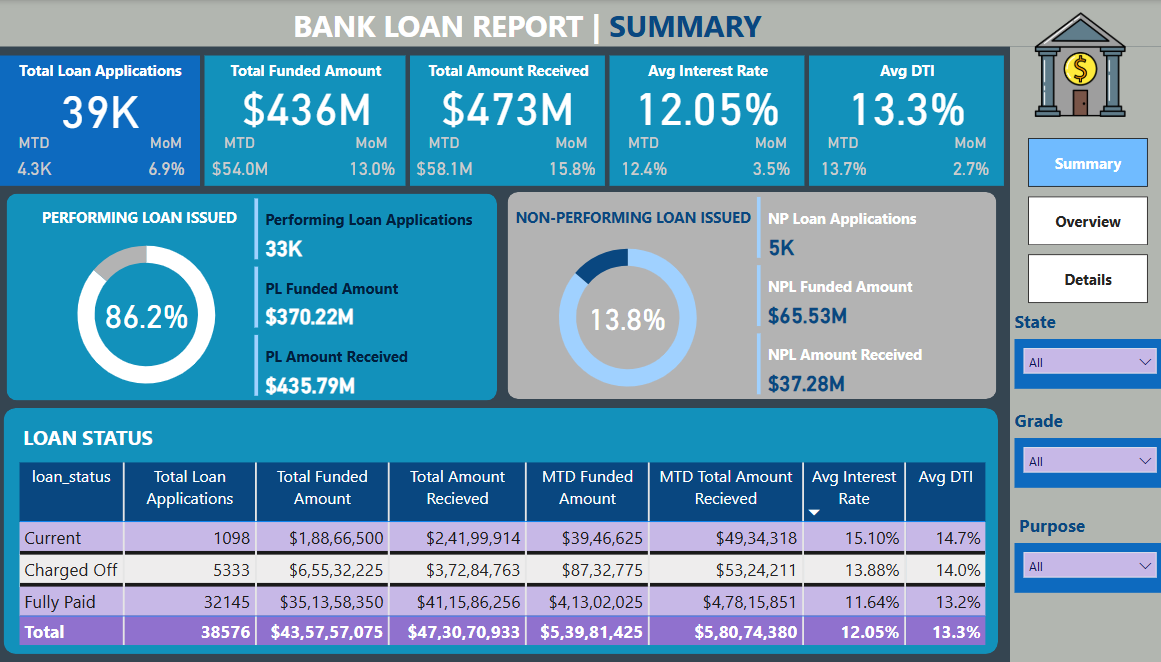

The page's visual inventory and layout, read from the dashboard file:
{"tool":"powerbi","page":{"name":"Summary","canvas":[1280,720],"ordinal":0},"visuals":[{"type":"shape","box":[0,0,1280.1,50.4],"z":0},{"type":"shape","box":[6.3,60.2,218,141.5],"z":0,"group":"g1"},{"type":"shape","box":[229.1,60.2,218,141.5],"z":0,"group":"g2"},{"type":"shape","box":[451.7,60.2,211.5,141.5],"z":0,"group":"g3"},{"type":"shape","box":[669.1,60.2,211.5,141.5],"z":0,"group":"g4"},{"type":"shape","box":[884.7,60.2,211.5,141.5],"z":0,"group":"g5"},{"type":"shape","box":[1102.8,50.4,177.3,670.1],"z":1000},{"type":"card","fields":{"Values":["financial_loan.Total Funded Amount"]},"box":[243.2,77.8,191.9,68.3],"z":1000,"group":"g2"},{"type":"card","fields":{"Values":["financial_loan.Total Amount Recieved"]},"box":[464.6,77.8,185.4,68.3],"z":1000,"group":"g3"},{"type":"card","fields":{"Values":["financial_loan.Avg Interest Rate"]},"box":[682,77.8,185.4,68.3],"z":1000,"group":"g4"},{"type":"card","fields":{"Values":["financial_loan.Avg DTI"]},"box":[897.6,77.8,185.4,68.3],"z":1000,"group":"g5"},{"type":"card","fields":{"Values":["financial_loan.Total Loan Applications"]},"box":[53.7,83,124.5,63.4],"z":1000,"group":"g1"},{"type":"textbox","box":[15.2,60.2,203.1,43.9],"z":2000,"group":"g1"},{"type":"textbox","box":[238,60.2,203.1,43.9],"z":2000,"group":"g2"},{"type":"textbox","box":[460.3,60.2,197.1,43.9],"z":2000,"group":"g3"},{"type":"textbox","box":[677.7,60.2,197.1,43.9],"z":2000,"group":"g4"},{"type":"textbox","box":[893.3,60.2,197.1,43.9],"z":2000,"group":"g5"},{"type":"shape","box":[14.6,209.8,531.9,224.5],"z":2000},{"type":"card","title":"MTD","fields":{"Values":["financial_loan.MTD Loan Applications"]},"box":[6.3,144.8,75.6,56.9],"z":3000,"group":"g1"},{"type":"card","title":"MTD","fields":{"Values":["financial_loan.MTD Funded Amount"]},"box":[229.1,144.8,75.6,56.9],"z":3000,"group":"g2"},{"type":"card","title":"MTD","fields":{"Values":["financial_loan.MTD Total Amount Recieved"]},"box":[451.7,144.8,73.4,56.9],"z":3000,"group":"g3"},{"type":"card","title":"MTD","fields":{"Values":["financial_loan.MTD Avg Interest Rate"]},"box":[669.1,144.8,73.4,56.9],"z":3000,"group":"g4"},{"type":"card","title":"MTD","fields":{"Values":["financial_loan.MTD Avg DTI"]},"box":[884.7,144.8,73.4,56.9],"z":3000,"group":"g5"},{"type":"textbox","box":[1107.7,551.4,152.9,37.4],"z":3000},{"type":"card","title":"MoM","fields":{"Values":["financial_loan.MOM Loan Applications"]},"box":[148.6,144.8,75.6,56.9],"z":4000,"group":"g1"},{"type":"card","title":"MoM","fields":{"Values":["financial_loan.MoM Funded Amount"]},"box":[371.4,144.8,75.6,56.9],"z":4000,"group":"g2"},{"type":"card","title":"MoM","fields":{"Values":["financial_loan.MOM Total Amount Recieved"]},"box":[589.8,144.8,73.4,56.9],"z":4000,"group":"g3"},{"type":"card","title":"MoM","fields":{"Values":["financial_loan.MoM Avg Interest Rate"]},"box":[807.2,144.8,73.4,56.9],"z":4000,"group":"g4"},{"type":"card","title":"MoM","fields":{"Values":["financial_loan.MoM Avg DTI"]},"box":[1022.8,144.8,73.4,56.9],"z":4000,"group":"g5"},{"type":"card","fields":{"Values":["financial_loan.Performing Loan %"]},"box":[112.2,312.3,107.4,55.3],"z":4000},{"type":"textbox","box":[219.6,0,718.9,60.2],"z":5000},{"type":"group","id":"g1","title":"Group 1","box":[6.3,60.2,218,141.5],"z":6000},{"type":"shape","box":[557.9,208.2,530.3,224.5],"z":7000},{"type":"card","fields":{"Values":["financial_loan.Non-Performing Loan %"]},"box":[631.1,320.4,112.2,47.2],"z":8000},{"type":"textbox","box":[21.1,219.6,274.9,42.3],"z":9000},{"type":"group","id":"g2","title":"Group 1","box":[229.1,60.2,218,141.5],"z":10000},{"type":"group","id":"g3","title":"Group 1","box":[451.7,60.2,211.5,141.5],"z":11000},{"type":"group","id":"g4","title":"Group 1","box":[669.1,60.2,211.5,141.5],"z":12000},{"type":"group","id":"g5","title":"Group 1","box":[884.7,60.2,211.5,141.5],"z":13000},{"type":"donutChart","fields":{"Category":["financial_loan.Performing Vs Non-Performing Loans"],"Y":["financial_loan.Total Loan Applications"]},"box":[21.1,242.4,289.5,196.8],"z":14000},{"type":"cardVisual","fields":{"Data":["financial_loan.Performing Loan Applications","financial_loan.Performing Loan Funded Amount","financial_loan.Performing Loan Amount Received"]},"box":[278.1,209.8,265.1,224.5],"z":15000},{"type":"donutChart","fields":{"Category":["financial_loan.Performing Vs Non-Performing Loans"],"Y":["financial_loan.Total Loan Applications"]},"box":[543.3,245.6,289.5,196.8],"z":16000},{"type":"textbox","box":[546.5,219.6,286.3,42.3],"z":17000},{"type":"cardVisual","fields":{"Data":["financial_loan.Non-Performing Loan Applications","financial_loan.NPL Funded Amount %","financial_loan.NPL Amount Received"]},"box":[823,208.2,266.8,224.5],"z":18000},{"type":"shape","box":[11.4,442.4,1078.4,266.8],"z":19000},{"type":"tableEx","fields":{"Values":["financial_loan.loan_status","financial_loan.Total Loan Applications","financial_loan.Total Funded Amount","financial_loan.Total Amount Recieved","financial_loan.MTD Funded Amount","financial_loan.MTD Total Amount Recieved","financial_loan.Avg Interest Rate","financial_loan.Avg DTI"]},"box":[22.8,496.1,1060.5,213.1],"z":20000},{"type":"textbox","box":[27.7,453.8,274.9,42.3],"z":21000},{"type":"slicer","fields":{"Values":["financial_loan.purpose"]},"box":[1107.7,588.8,164.3,53.7],"z":22000},{"type":"slicer","fields":{"Values":["financial_loan.grade"]},"box":[1107.7,475,164.3,53.7],"z":23000},{"type":"slicer","fields":{"Values":["financial_loan.address_state"]},"box":[1107.7,367.6,164.3,53.7],"z":24000},{"type":"textbox","box":[1102.8,437.5,152.9,37.4],"z":25000},{"type":"textbox","box":[1102.8,330.2,152.9,37.4],"z":26000},{"type":"image","box":[1119.1,8.1,120.4,123.6],"z":27000},{"type":"pageNavigator","box":[1122.3,149.6,130.1,180.5],"z":33500}]}

Visuals, with their boxes in screenshot pixels (x1, y1, x2, y2), scaled from the page's 1280x720 canvas onto the 1161x662 screenshot:
shape: <bbox>0, 0, 1160, 46</bbox>
shape: <bbox>6, 55, 203, 185</bbox>
shape: <bbox>208, 55, 406, 185</bbox>
shape: <bbox>410, 55, 602, 185</bbox>
shape: <bbox>607, 55, 799, 185</bbox>
shape: <bbox>802, 55, 994, 185</bbox>
shape: <bbox>1000, 46, 1160, 661</bbox>
card - financial_loan.Total Funded Amount: <bbox>221, 72, 395, 134</bbox>
card - financial_loan.Total Amount Recieved: <bbox>421, 72, 590, 134</bbox>
card - financial_loan.Avg Interest Rate: <bbox>619, 72, 787, 134</bbox>
card - financial_loan.Avg DTI: <bbox>814, 72, 982, 134</bbox>
card - financial_loan.Total Loan Applications: <bbox>49, 76, 162, 135</bbox>
textbox: <bbox>14, 55, 198, 96</bbox>
textbox: <bbox>216, 55, 400, 96</bbox>
textbox: <bbox>418, 55, 596, 96</bbox>
textbox: <bbox>615, 55, 793, 96</bbox>
textbox: <bbox>810, 55, 989, 96</bbox>
shape: <bbox>13, 193, 496, 399</bbox>
"MTD" card: <bbox>6, 133, 74, 185</bbox>
"MTD" card: <bbox>208, 133, 276, 185</bbox>
"MTD" card: <bbox>410, 133, 476, 185</bbox>
"MTD" card: <bbox>607, 133, 673, 185</bbox>
"MTD" card: <bbox>802, 133, 869, 185</bbox>
textbox: <bbox>1005, 507, 1143, 541</bbox>
"MoM" card: <bbox>135, 133, 203, 185</bbox>
"MoM" card: <bbox>337, 133, 405, 185</bbox>
"MoM" card: <bbox>535, 133, 602, 185</bbox>
"MoM" card: <bbox>732, 133, 799, 185</bbox>
"MoM" card: <bbox>928, 133, 994, 185</bbox>
card - financial_loan.Performing Loan %: <bbox>102, 287, 199, 338</bbox>
textbox: <bbox>199, 0, 851, 55</bbox>
"Group 1" group: <bbox>6, 55, 203, 185</bbox>
shape: <bbox>506, 191, 987, 398</bbox>
card - financial_loan.Non-Performing Loan %: <bbox>572, 295, 674, 338</bbox>
textbox: <bbox>19, 202, 268, 241</bbox>
"Group 1" group: <bbox>208, 55, 406, 185</bbox>
"Group 1" group: <bbox>410, 55, 602, 185</bbox>
"Group 1" group: <bbox>607, 55, 799, 185</bbox>
"Group 1" group: <bbox>802, 55, 994, 185</bbox>
donutChart - financial_loan.Performing Vs Non-Performing Loans x financial_loan.Total Loan Applications: <bbox>19, 223, 282, 404</bbox>
cardVisual - financial_loan.Performing Loan Applications x financial_loan.Performing Loan Funded Amount: <bbox>252, 193, 493, 399</bbox>
donutChart - financial_loan.Performing Vs Non-Performing Loans x financial_loan.Total Loan Applications: <bbox>493, 226, 755, 407</bbox>
textbox: <bbox>496, 202, 755, 241</bbox>
cardVisual - financial_loan.Non-Performing Loan Applications x financial_loan.NPL Funded Amount %: <bbox>746, 191, 988, 398</bbox>
shape: <bbox>10, 407, 988, 652</bbox>
tableEx - financial_loan.loan_status x financial_loan.Total Loan Applications: <bbox>21, 456, 983, 652</bbox>
textbox: <bbox>25, 417, 274, 456</bbox>
slicer - financial_loan.purpose: <bbox>1005, 541, 1154, 591</bbox>
slicer - financial_loan.grade: <bbox>1005, 437, 1154, 486</bbox>
slicer - financial_loan.address_state: <bbox>1005, 338, 1154, 387</bbox>
textbox: <bbox>1000, 402, 1139, 437</bbox>
textbox: <bbox>1000, 304, 1139, 338</bbox>
image: <bbox>1015, 7, 1124, 121</bbox>
pageNavigator: <bbox>1018, 138, 1136, 304</bbox>
